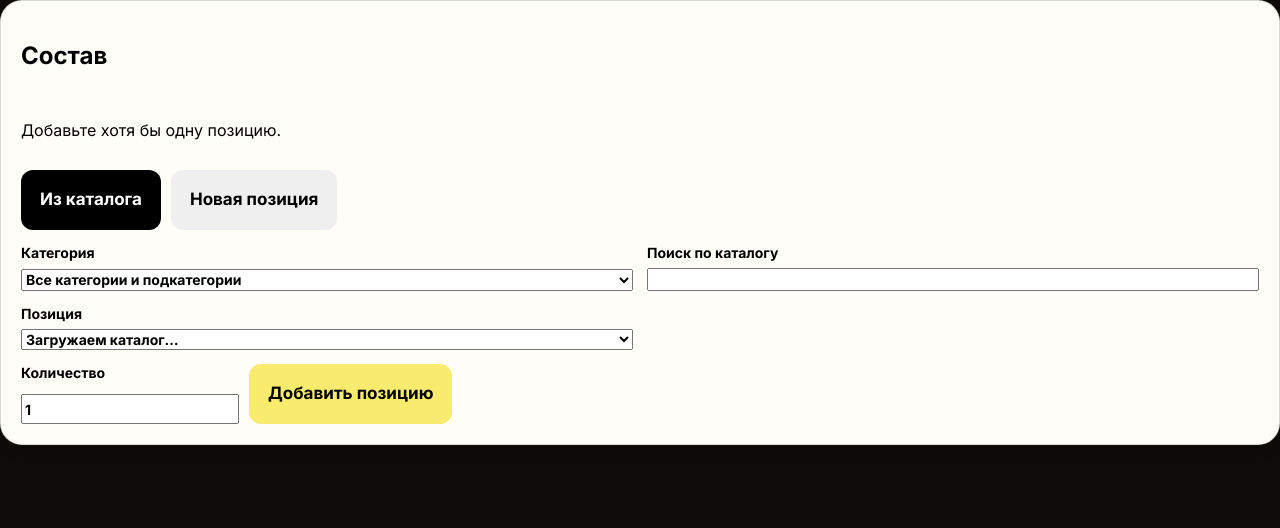
changing catalog search invalidates the previously selected item
Type "alpha" into the field labelled "Поиск по каталогу" at (953, 279), box [647,268,1259,291]
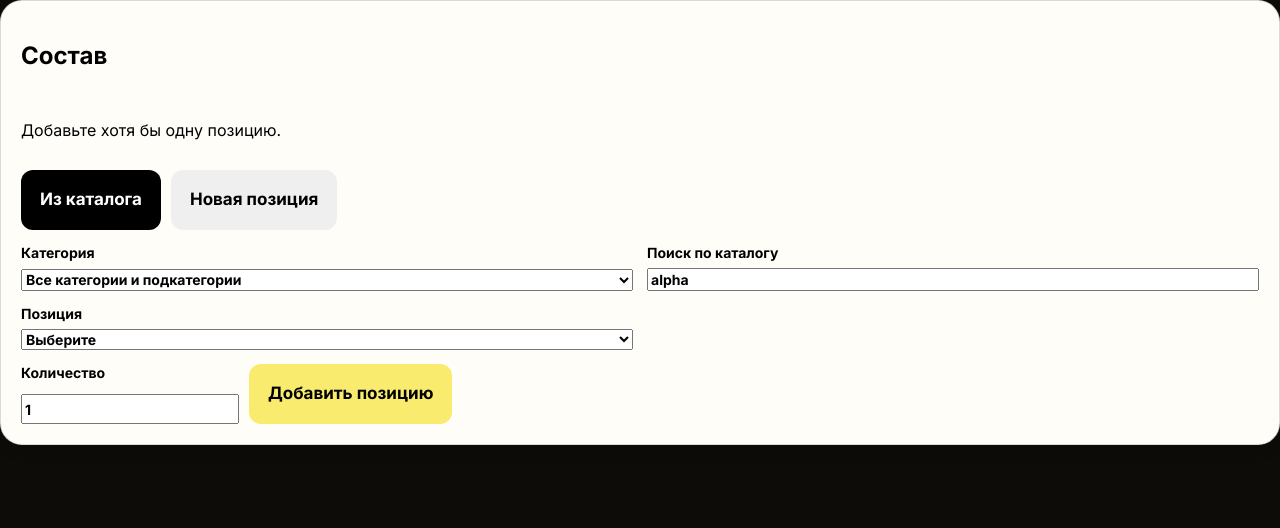
Select "Ethernet transceivers · Vendor · Alpha · A1" in the dropdown labelled "Позиция" at (327, 339), box [21,329,633,350]
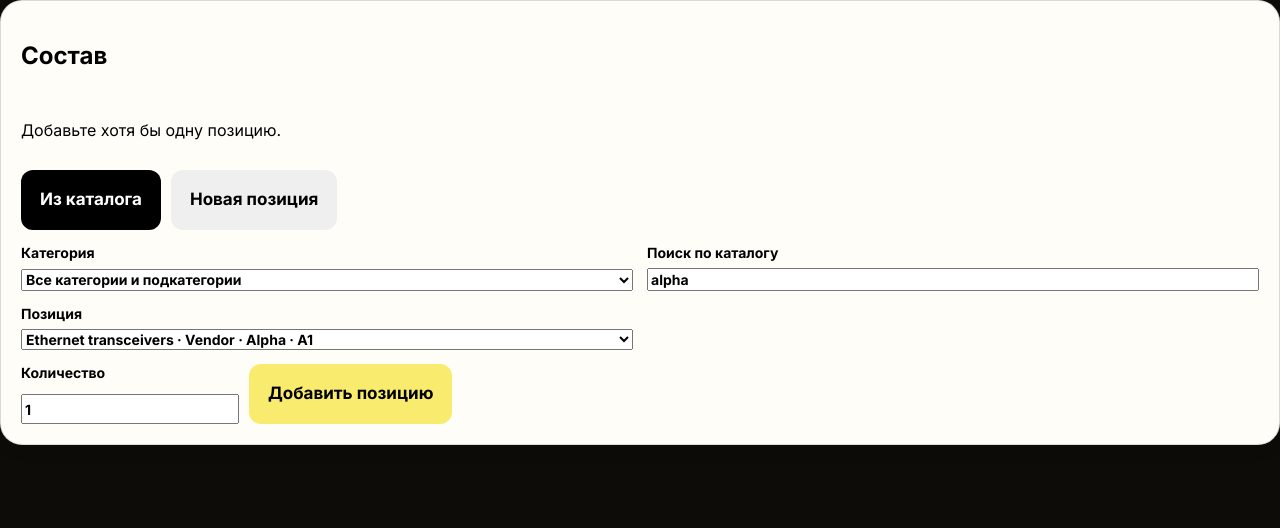
Replace the text in the field labelled "Поиск по каталогу" with "beta" at (953, 279), box [647,268,1259,291]
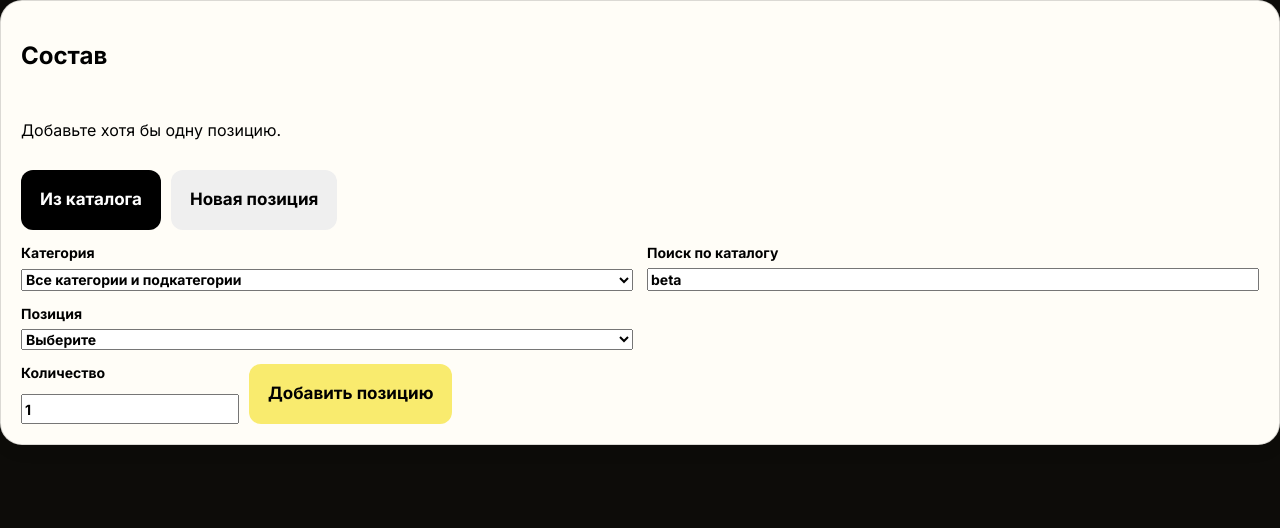
Click the button "Добавить позицию" at (351, 394), box [249,364,452,424]
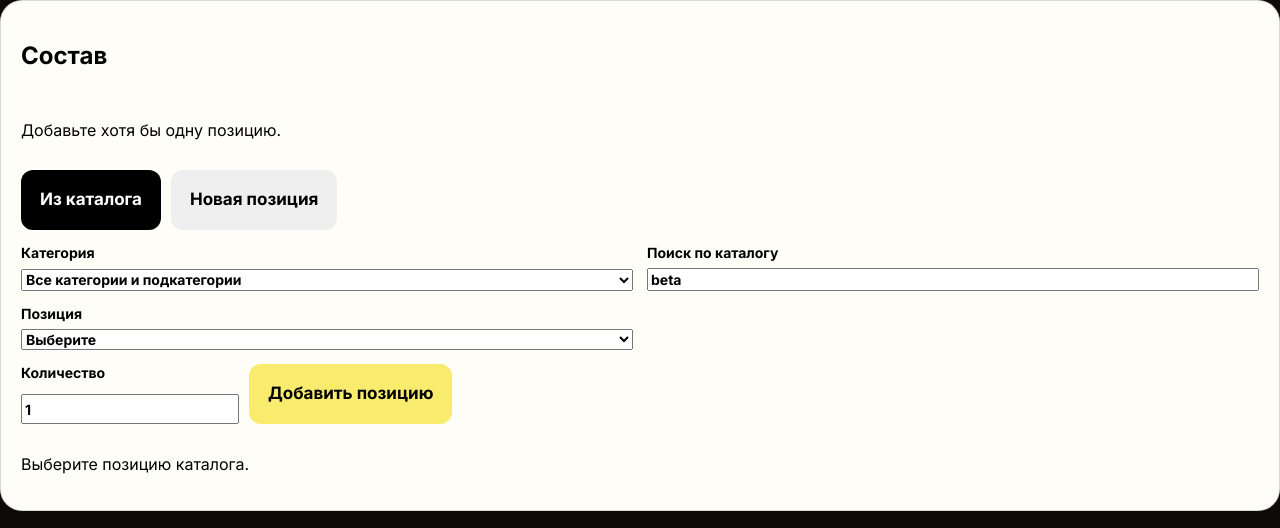
Check: the message shows "Выберите позицию каталога", box [21,454,249,474]
